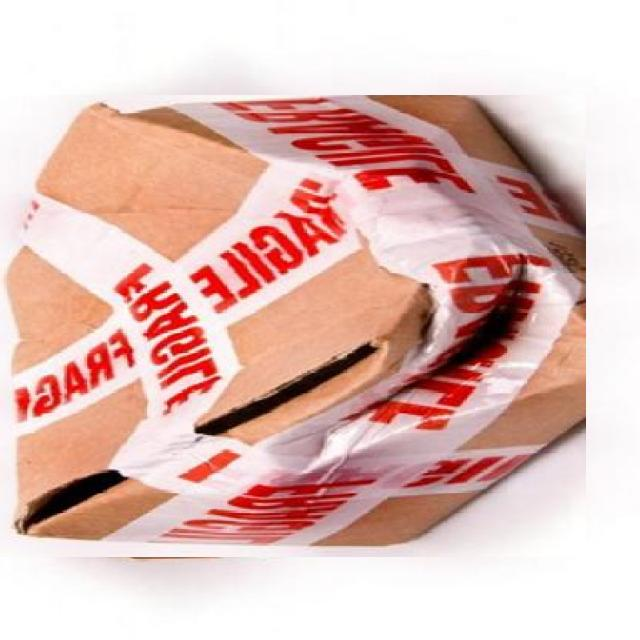defect: (0, 95, 586, 557)
